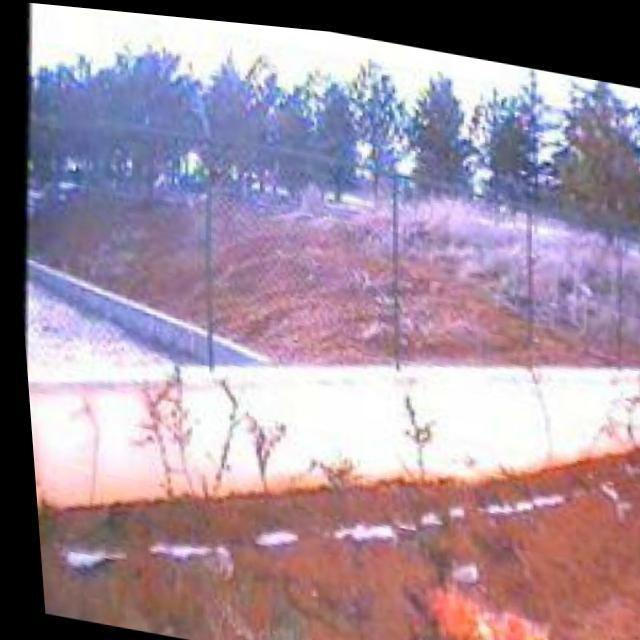fire: (408, 570, 566, 640)
